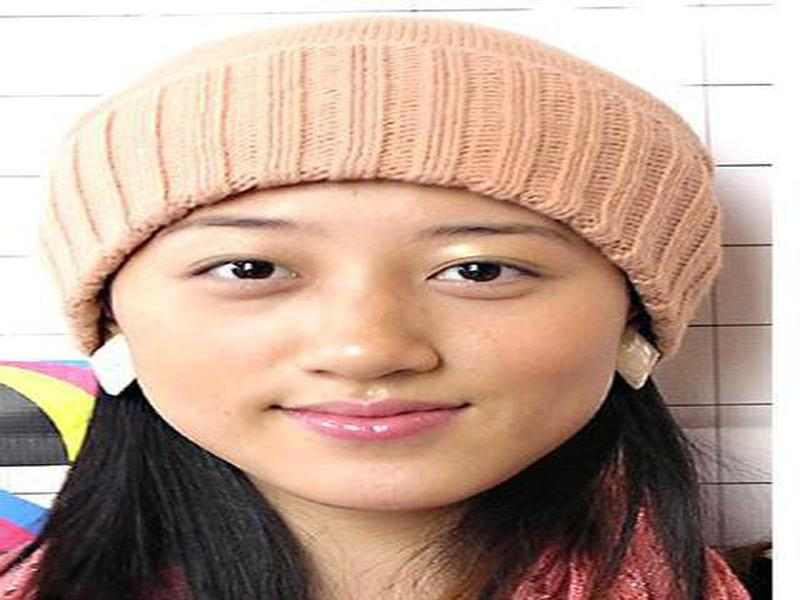without_mask: (106, 174, 625, 497)
